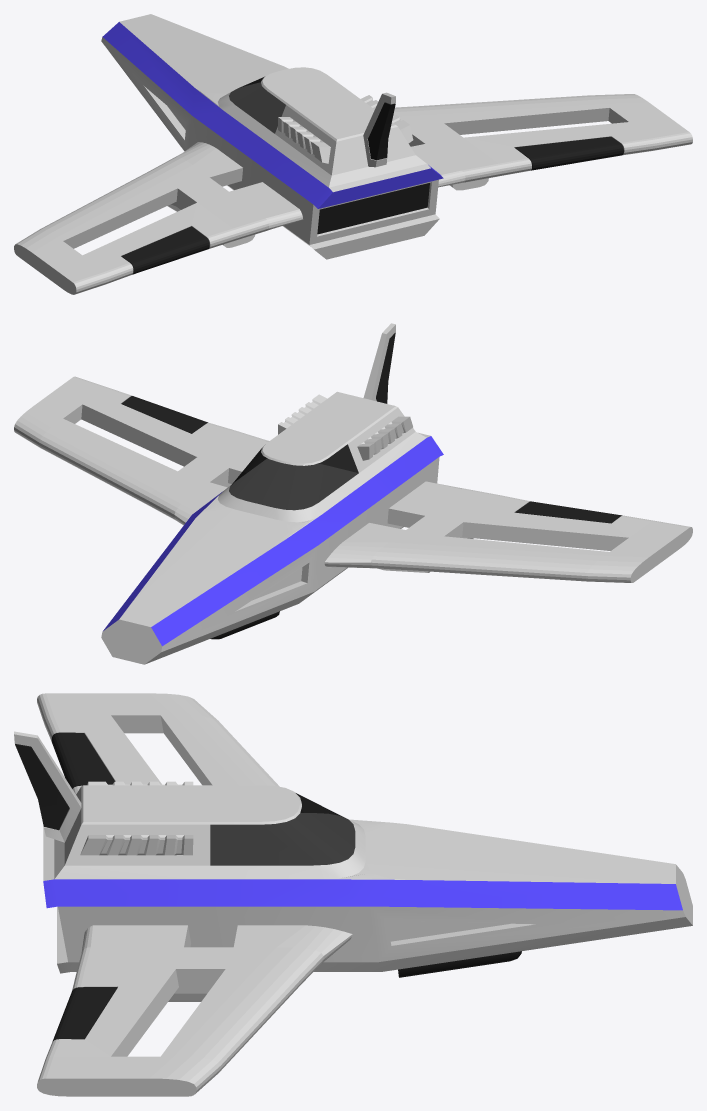
The picture shows the model from 3 angles, top to bottom: view 1: azimuth 30°, elevation 25°; view 2: azimuth 150°, elevation 25°; view 3: azimuth 270°, elevation 25°; orthographic projection. The views are drawn at different scales.
Visible parts, largest first — view 1: Body, LeftWing, RightWing, RightEleron, LeftEleron, Window, Tail; view 2: Body, LeftWing, RightWing, Window, RightEleron, LeftEleron, Tail; view 3: Body, RightWing, LeftWing, Window, LeftEleron, RightEleron, Tail, FrontFlame.
Part boxes in pixels (x1,y1,x2,y2): Body: (101, 14, 443, 259); LeftWing: (14, 142, 302, 294); RightWing: (393, 94, 692, 190); RightEleron: (514, 136, 623, 170); LeftEleron: (121, 226, 209, 274); Window: (229, 76, 285, 133); Tail: (368, 102, 395, 160); Body: (101, 323, 443, 664); LeftWing: (324, 481, 692, 582); RightWing: (14, 376, 269, 525); Window: (229, 444, 358, 510); RightEleron: (121, 396, 207, 433); LeftEleron: (515, 501, 622, 523); Tail: (376, 332, 395, 403); Body: (14, 731, 692, 973); RightWing: (37, 925, 352, 1096); LeftWing: (37, 693, 279, 794); Window: (210, 793, 355, 865); LeftEleron: (51, 732, 114, 788); RightEleron: (52, 986, 117, 1041); Tail: (15, 744, 69, 830); FrontFlame: (398, 951, 521, 977).
Size of the model in its own units: 4400 by 1203 by 3278.
